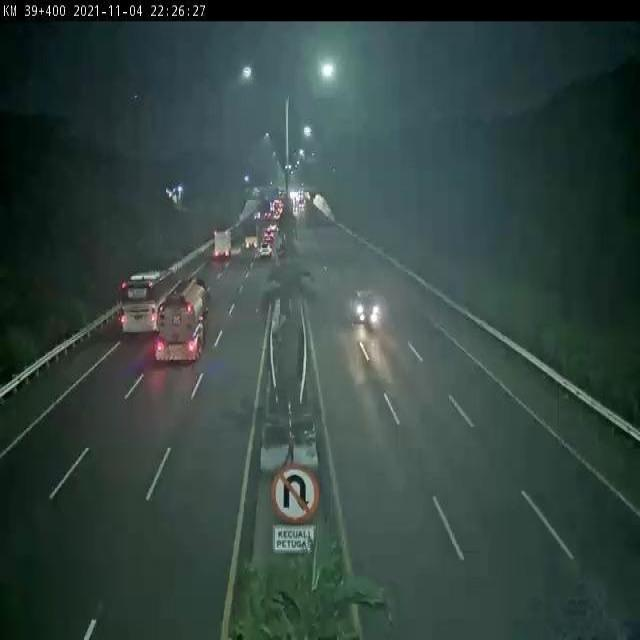Bus: (114, 259, 182, 340)
Car: (347, 287, 382, 332), (256, 238, 274, 263)
Truck: (154, 276, 216, 371), (206, 222, 240, 268)
